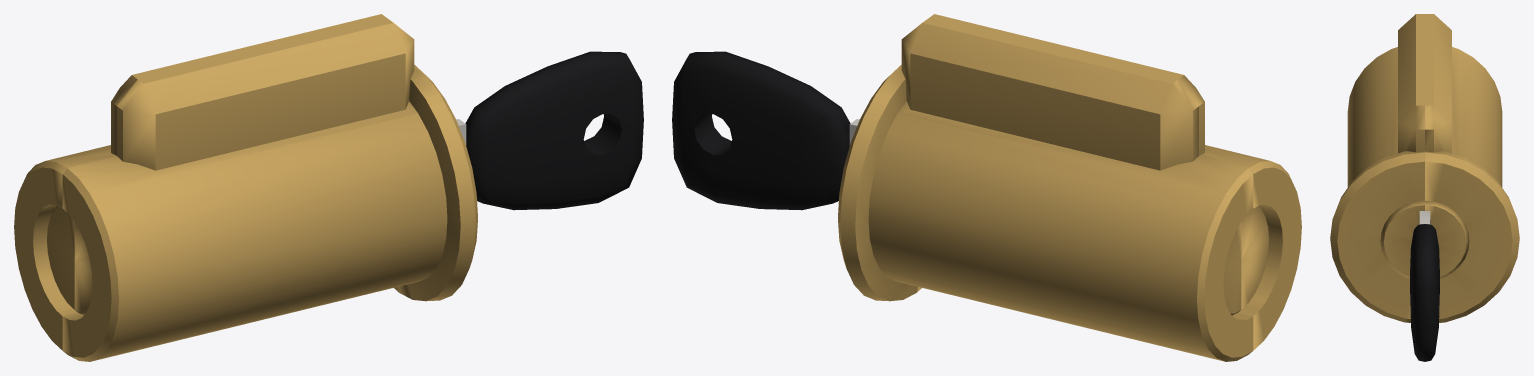
File: lock-lo-v1.glb
3 renders of one model, left to right at view 1: azimuth 30°, elevation 25°; view 2: azimuth 150°, elevation 25°; view 3: azimuth 270°, elevation 25°, orthographic. The views are drawn at different scales.
Parts seen in each view (by area): view 1: housing_front, key_head, housing_back, plug_back, plug_front; view 2: housing_back, key_head, housing_front, plug_front, plug_back; view 3: housing_back, housing_front, key_head, plug_back, plug_front, key_blade.
Boxes of the visible parts, x1,y1,x2,y2 form: housing_front: (62,18,477,361); key_head: (465,51,643,210); housing_back: (14,14,398,350); plug_back: (47,206,74,309); plug_front: (74,222,92,315); housing_back: (838,18,1253,361); key_head: (672,51,850,210); housing_front: (917,14,1301,350); plug_front: (1241,206,1268,309); plug_back: (1223,222,1241,315); housing_back: (1425,14,1519,322); housing_front: (1330,14,1424,322); key_head: (1410,224,1439,361); plug_back: (1425,200,1469,277); plug_front: (1380,200,1424,277); key_blade: (1419,211,1430,224).
Size of the model in its own units: 0.0972 by 0.0449 by 0.0368.
